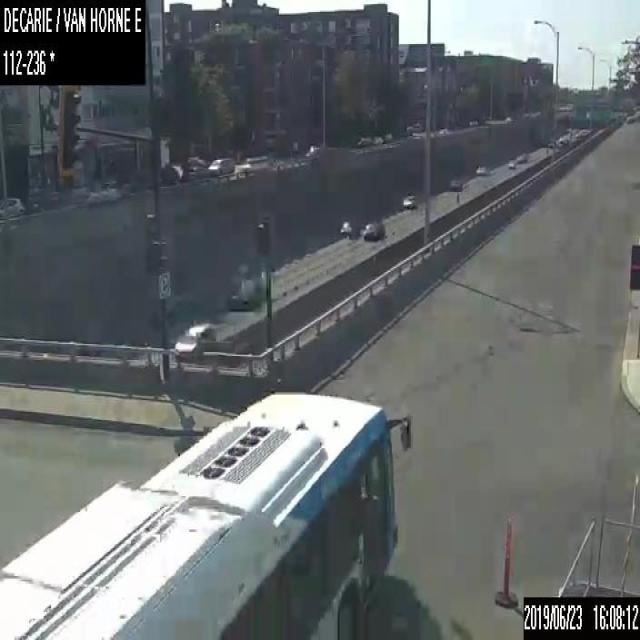bus: (0, 389, 411, 639)
construction: (492, 515, 520, 608)
vehicle: (173, 320, 214, 348), (226, 279, 263, 310), (205, 156, 233, 174), (0, 196, 25, 216), (362, 220, 383, 239), (339, 219, 356, 236), (402, 193, 416, 207), (304, 144, 319, 157), (448, 178, 462, 190), (515, 152, 526, 162), (476, 165, 486, 175), (508, 159, 515, 167)
